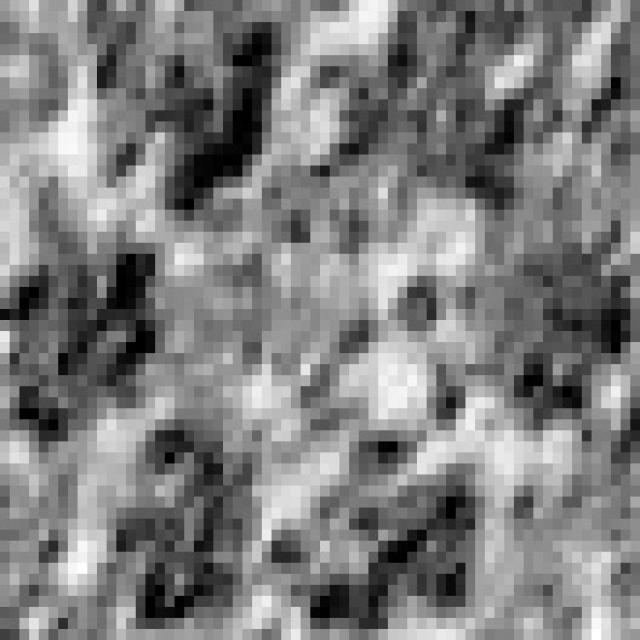inner: (191, 159, 420, 444)
lobe: (258, 425, 498, 638), (317, 15, 533, 218), (91, 13, 288, 222), (0, 233, 175, 446), (447, 239, 638, 429), (107, 417, 263, 635)
outer: (0, 0, 640, 640)
